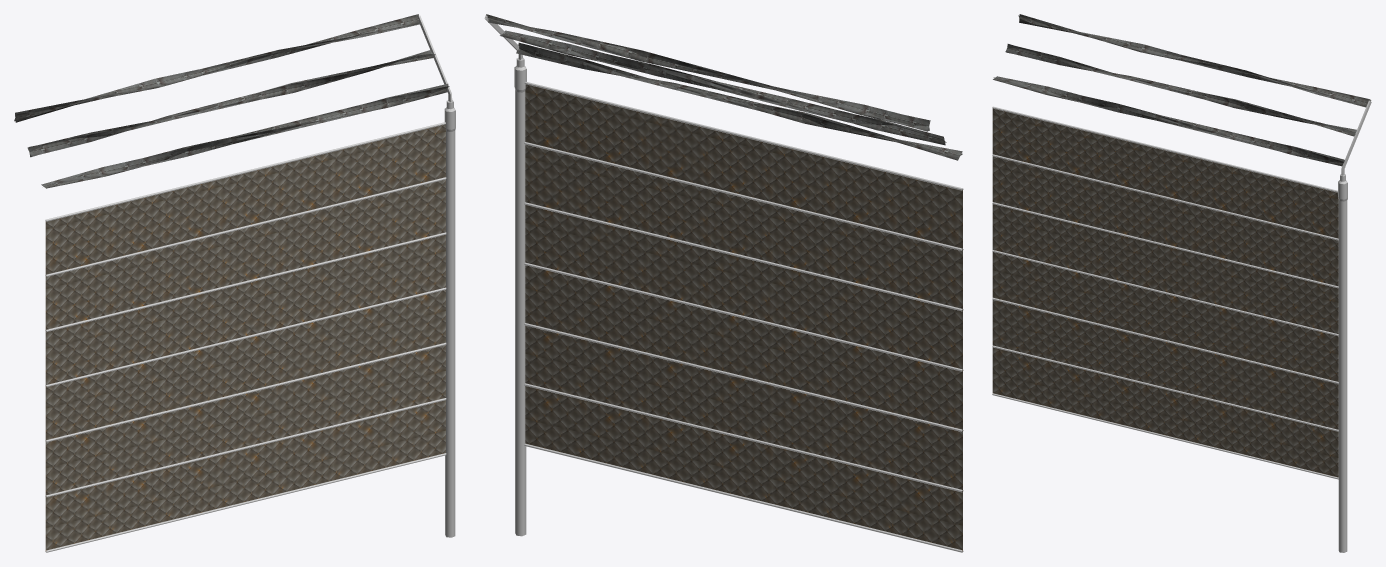
File: Wire_Fence1_el1_LOD1.fbx
3 renders of one model, left to right at view 1: azimuth 30°, elevation 25°; view 2: azimuth 150°, elevation 25°; view 3: azimuth 330°, elevation 25°, orthographic. The views are drawn at different scales.
Visible parts, largest first — view 1: polySurface301; view 2: polySurface301; view 3: polySurface301.
Boxes of the visible parts, left/top/right/bottom form: polySurface301: left=14, top=14, right=455, bottom=552; polySurface301: left=484, top=14, right=963, bottom=552; polySurface301: left=992, top=14, right=1371, bottom=552.
Size of the model in its own units: 4.05 by 4.72 by 0.6177.
